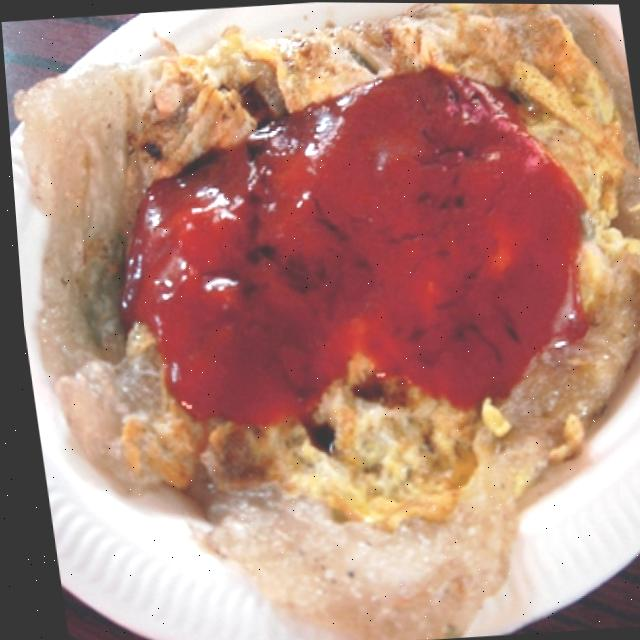熟制海鲜: (0, 0, 640, 622)
